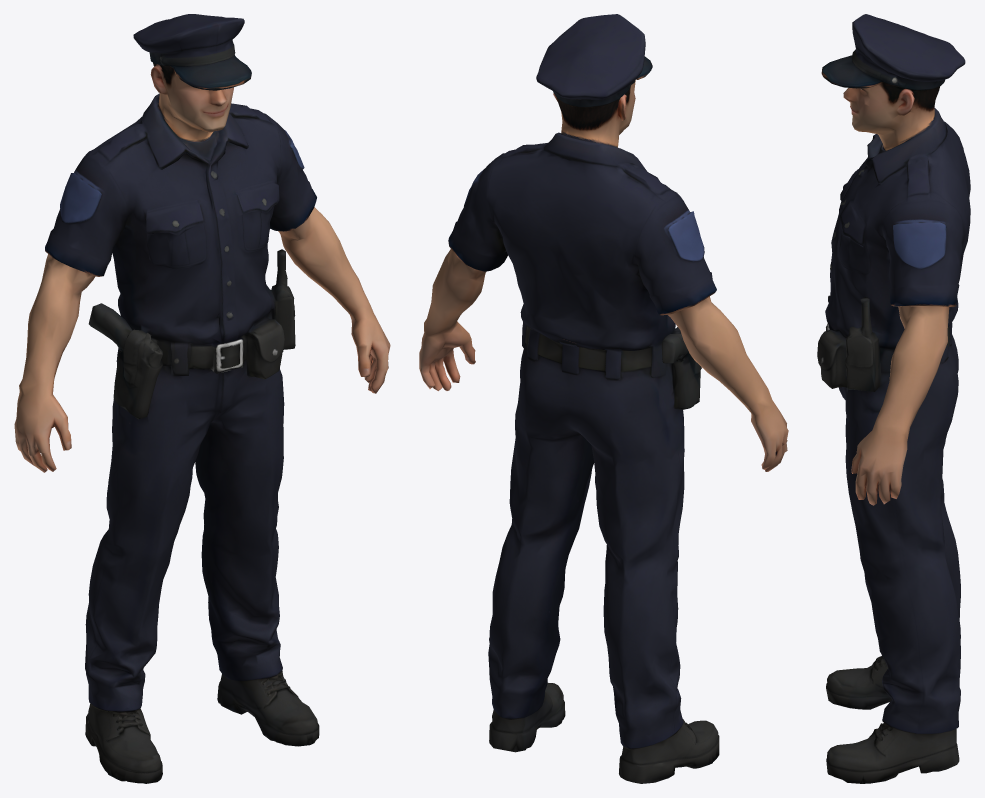
Rendered from police_officer.glb.
3 views of the same model, side by side, from view 1: azimuth 30°, elevation 25°; view 2: azimuth 150°, elevation 25°; view 3: azimuth 270°, elevation 25° (orthographic). The views are drawn at different scales.
Visible parts, largest first — view 1: tripo_node_18dcebab-83b8-4289-860a-a9acb53d6998; view 2: tripo_node_18dcebab-83b8-4289-860a-a9acb53d6998; view 3: tripo_node_18dcebab-83b8-4289-860a-a9acb53d6998.
Part boxes in pixels (x1,y1,x2,y2): tripo_node_18dcebab-83b8-4289-860a-a9acb53d6998: (14,14,390,783); tripo_node_18dcebab-83b8-4289-860a-a9acb53d6998: (419,14,788,783); tripo_node_18dcebab-83b8-4289-860a-a9acb53d6998: (817,14,970,783).
Bounding box in the file's own units: 0.5236 × 1 × 0.1945.
Materials: 1 (1 with a texture image).
